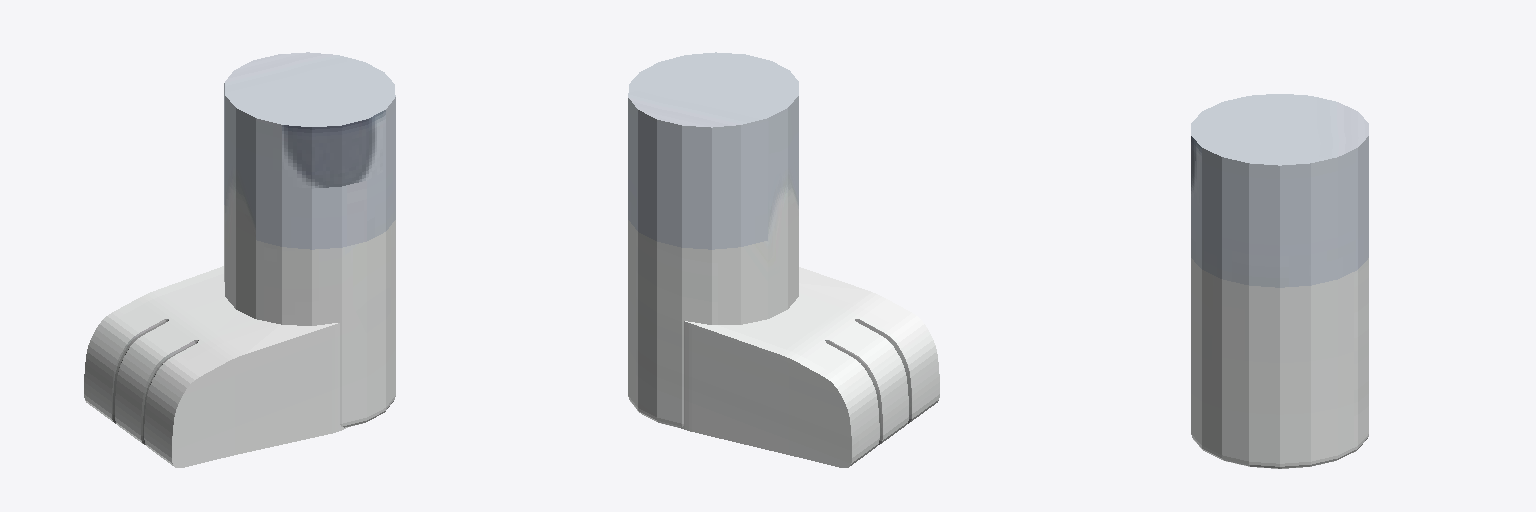
The picture shows the model from 3 angles: view 1: azimuth 30°, elevation 25°; view 2: azimuth 150°, elevation 25°; view 3: azimuth 270°, elevation 25°; orthographic projection.
Visible parts, largest first — view 1: Cylinder006; view 2: Cylinder006; view 3: Cylinder006.
Boxes of the visible parts, box(x1,y1,x2,y2) form: Cylinder006: box(84, 52, 395, 467); Cylinder006: box(628, 52, 939, 467); Cylinder006: box(1191, 94, 1368, 468).
Size of the model in its own units: 13.12 by 14.97 by 7.89.
1 materials, 1 textured.